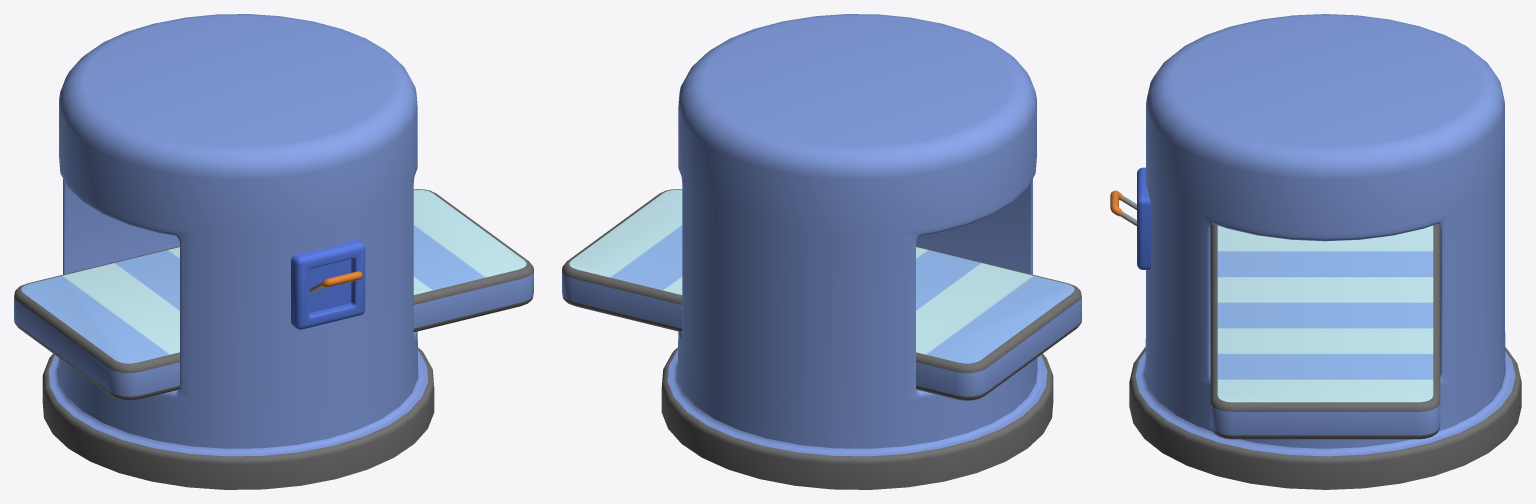
The model's file is tonbaliğiMakina.fbx.
The picture shows the model from 3 angles, left to right: view 1: azimuth 30°, elevation 25°; view 2: azimuth 150°, elevation 25°; view 3: azimuth 270°, elevation 25°; orthographic projection.
Parts seen in each view (by area): view 1: govde, kizak; view 2: govde, kizak; view 3: govde, kizak, kol.
Part boxes in pixels (x1,y1,x2,y2): govde: [42, 14, 434, 489]; kizak: [14, 189, 533, 400]; govde: [661, 14, 1053, 489]; kizak: [562, 189, 1081, 400]; govde: [1129, 14, 1521, 489]; kizak: [1210, 224, 1440, 439]; kol: [1110, 190, 1136, 226].
Bounding box in the file's own units: 271 × 200 × 229.
